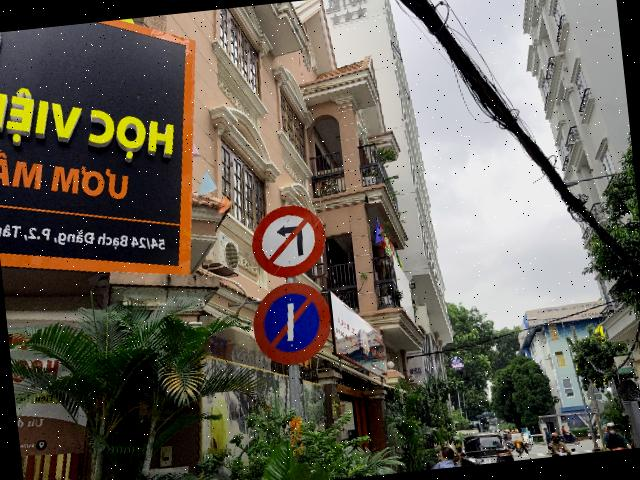cam-do-xe-ngay-le: (248, 278, 336, 369)
cam-re-phai: (247, 202, 330, 282)
